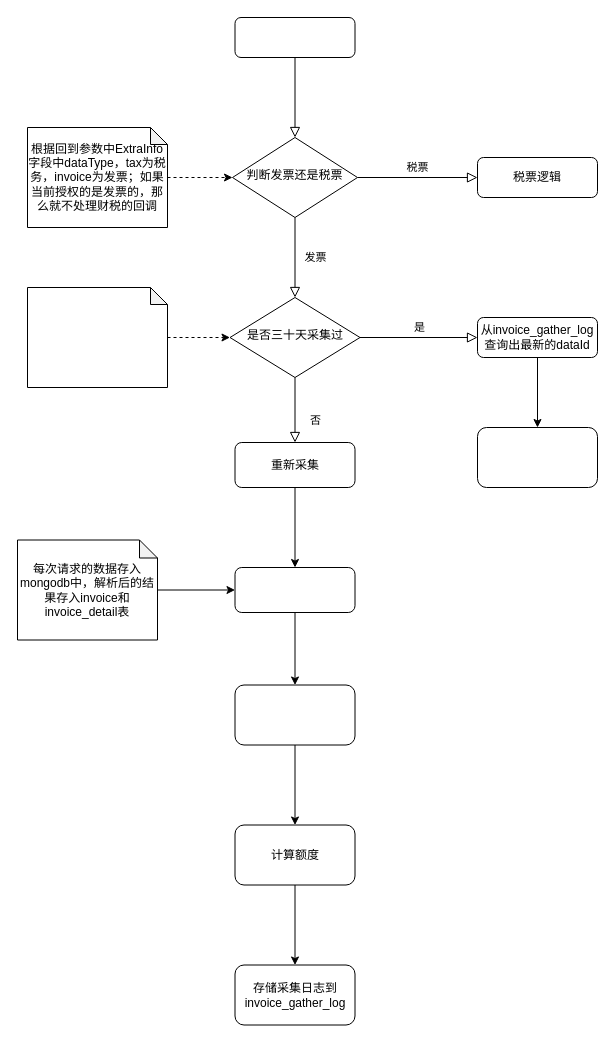
Some shapes in this 615 by 1043 pixel diagram are drawn without their labels. Each missing label, with the box of its shape:
查询对应订单: (476, 426, 598, 488)
根据税号在invoice_gather_log表中查询记录，并根据创建时间对比: (26, 286, 168, 388)
消费topic数据: (234, 16, 355, 58)
计算指标: (234, 684, 355, 745)
请求接口，分页获取近三年发票数据并存到本地: (234, 566, 355, 612)
